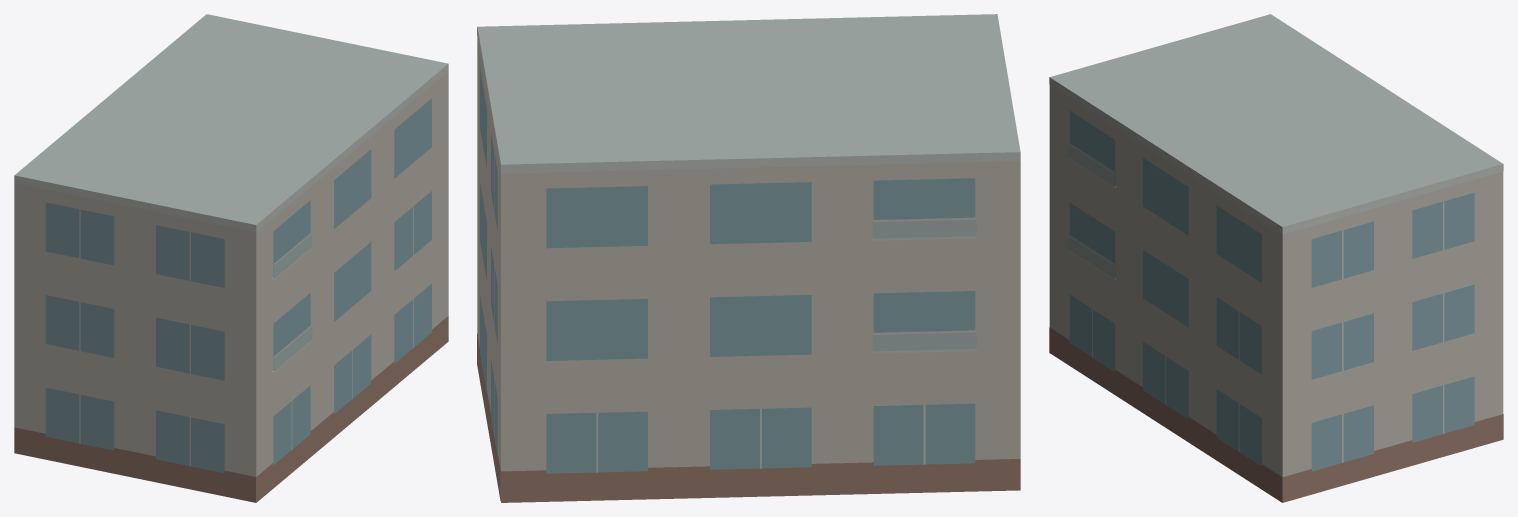
Rendered from survey-upis-32656648.glb.
3 renders of one model, left to right at view 1: azimuth 30°, elevation 25°; view 2: azimuth 150°, elevation 25°; view 3: azimuth 270°, elevation 25°, orthographic. The views are drawn at different scales.
Parts seen in each view (by area): view 1: survey-upis-32656648.tmp; view 2: survey-upis-32656648.tmp; view 3: survey-upis-32656648.tmp.
Boxes of the visible parts, x1=… form: survey-upis-32656648.tmp: x1=14, y1=14, x2=448, y2=502; survey-upis-32656648.tmp: x1=477, y1=14, x2=1020, y2=502; survey-upis-32656648.tmp: x1=1049, y1=14, x2=1503, y2=502.
Bounding box in the file's own units: 15.1 × 9.1 × 13.59.
